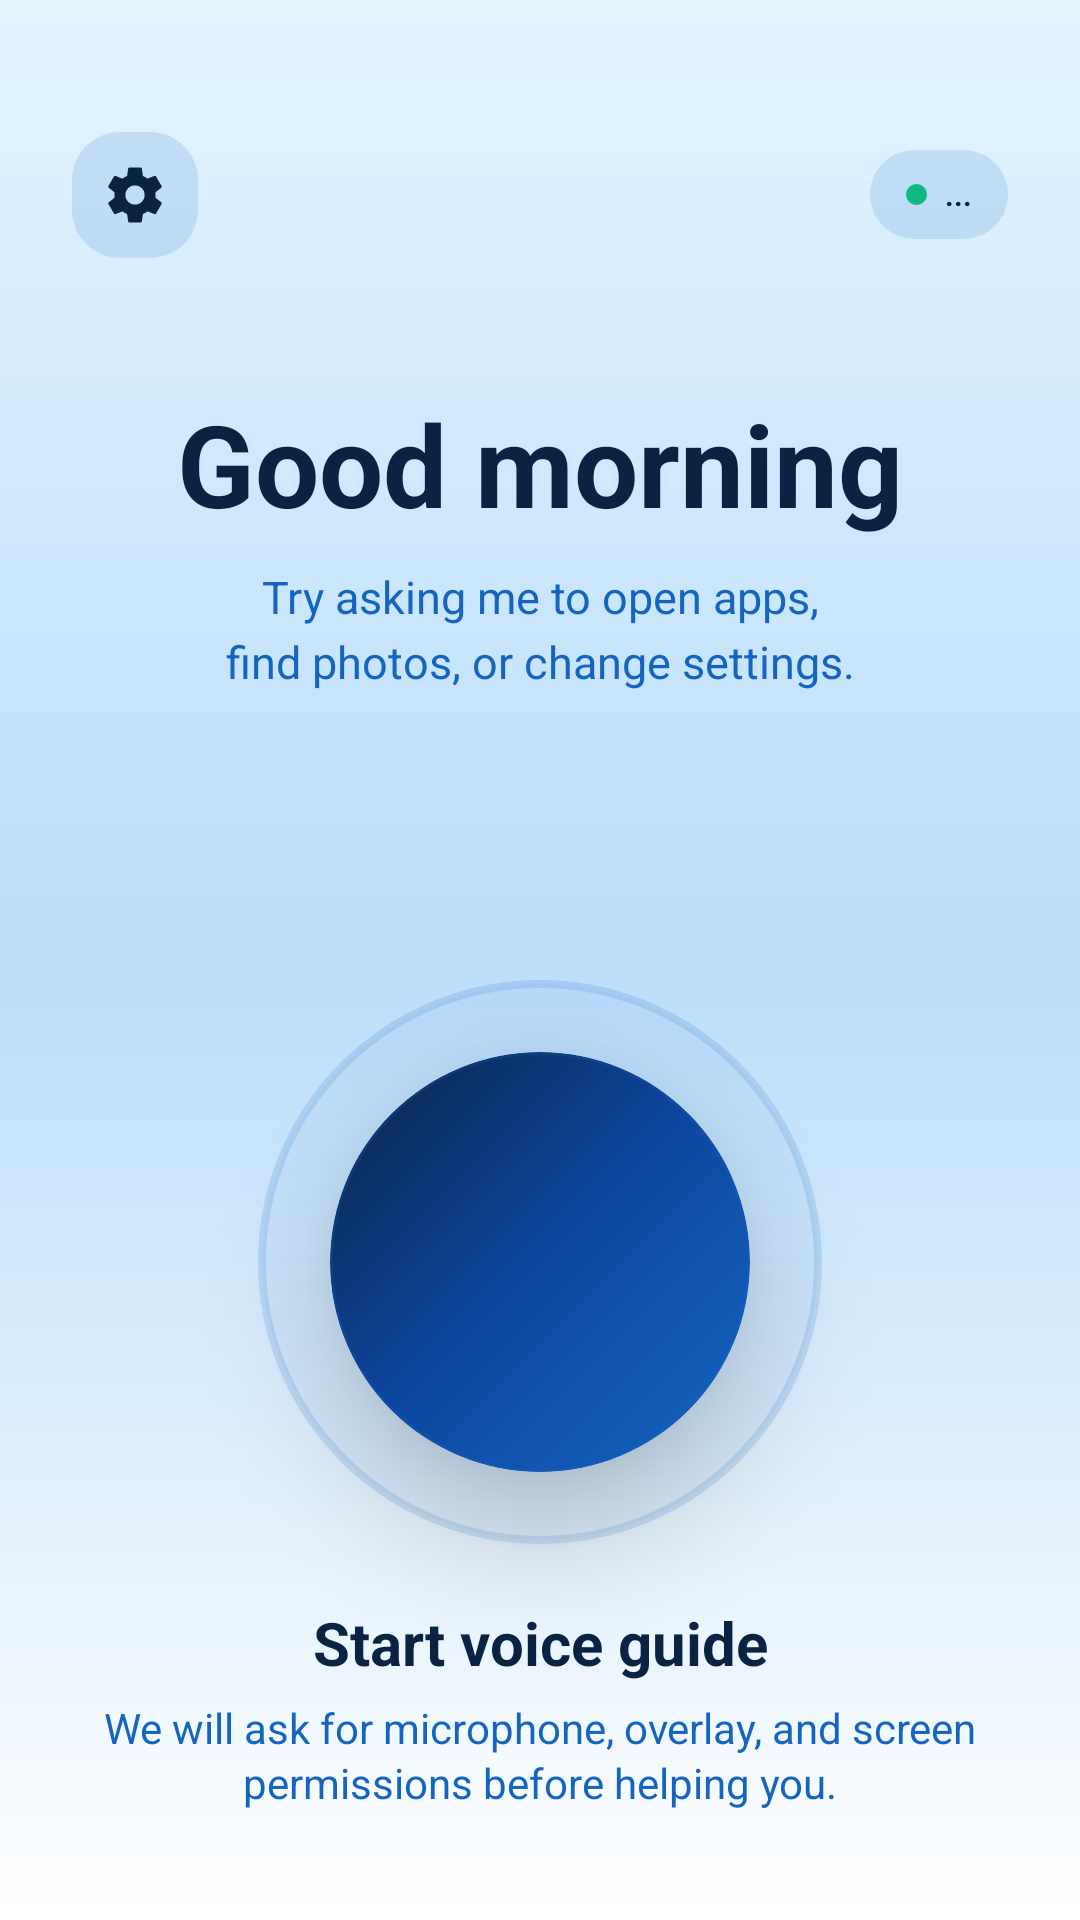

Where icons sit on this 1080 x 1920 app screen, as {"left": x1, "top": y1, "right": x2, "bottom": y2}:
Open settings: {"left": 72, "top": 132, "right": 198, "bottom": 258}
